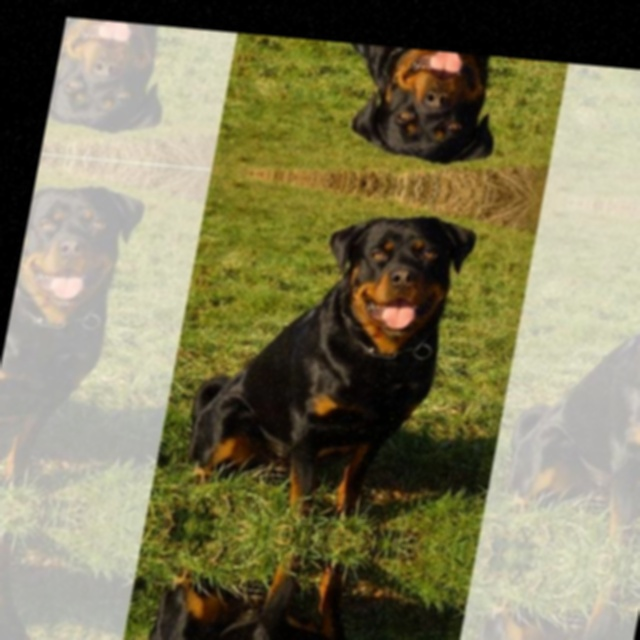dog: (181, 181, 496, 520), (243, 36, 523, 187), (149, 553, 425, 640)
